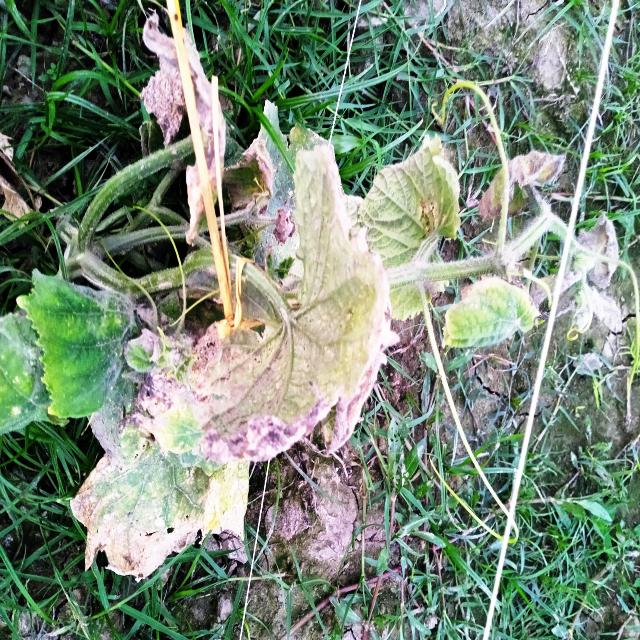Bacterial-Wilt: (476, 145, 567, 220), (575, 214, 622, 292)
